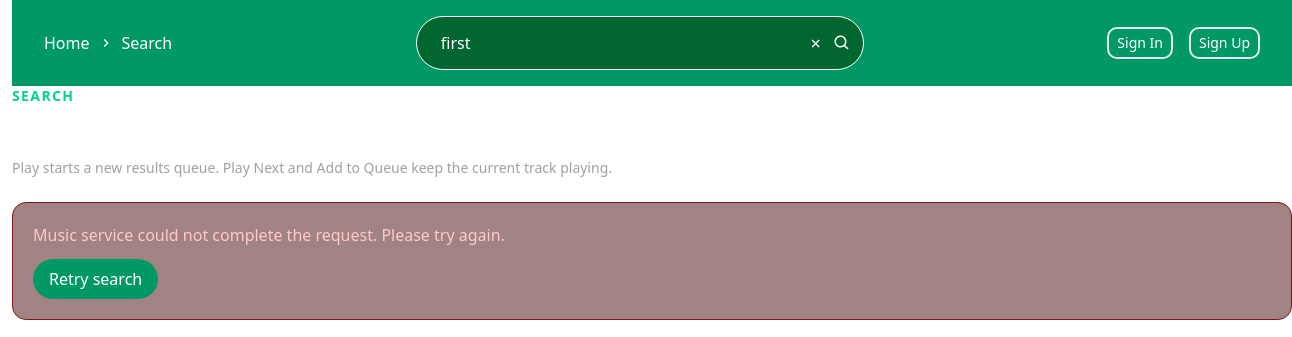
Test case: URL ownership and rendered results › offers working retry for the same URL and distinguishes an error from an empty success
The image size is (1292, 337).
Click the button "Retry search".
click(96, 279)  # box [33,259,158,299]
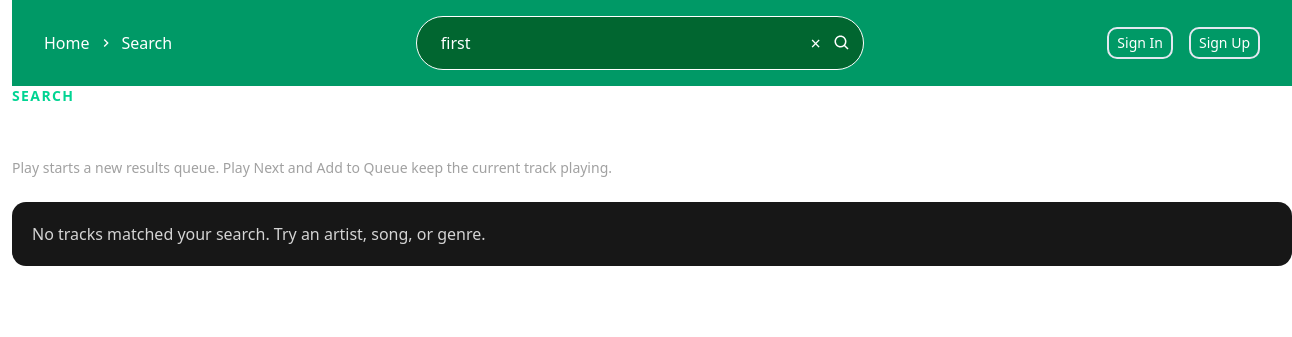
Check: the text "No tracks matched your search. Try an artist, song, or genre." is shown, box [12,202,1291,266]
Check: the message "Music service could not complete the request. Please try again. Retry search" is gone
